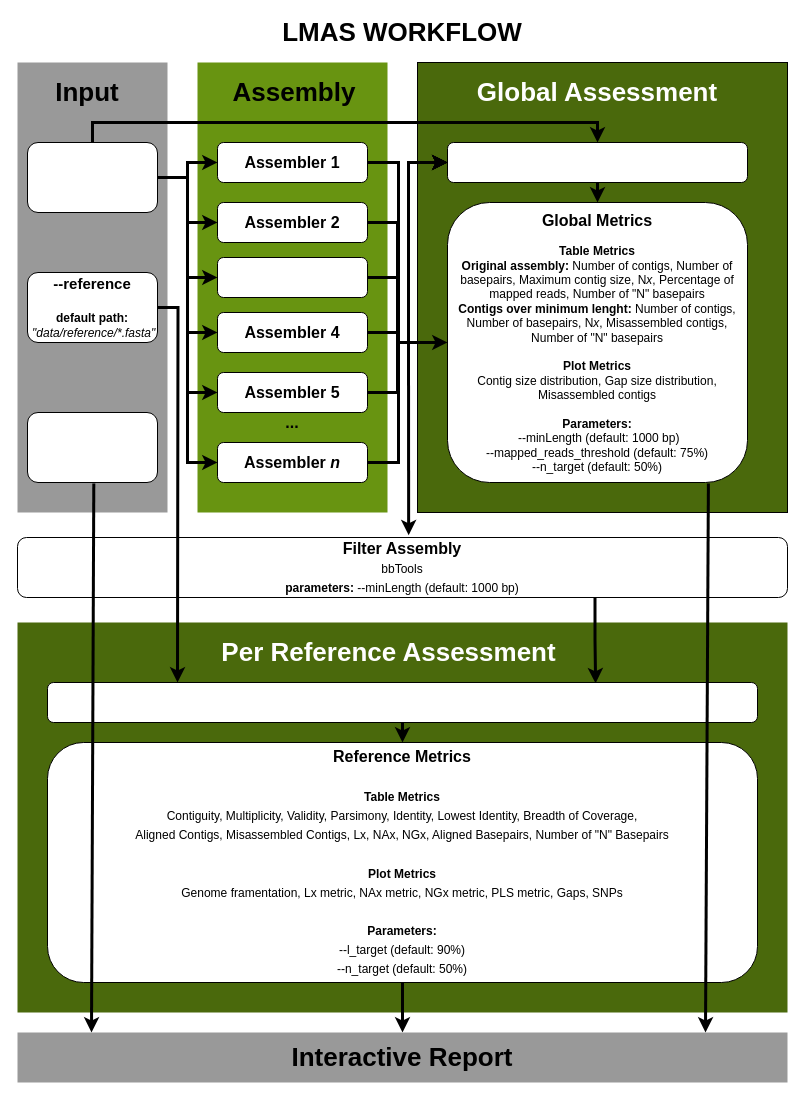
Some shapes in this 805 by 1100 pixel diagram are drawn without their labels. Here are the shapes that lost their labels. From the top down, the centre of each, then its label:
pixel 92 177: --fastq default path: "data/fastq/*_{1,2}*"
pixel 597 162: Read Mapping minimap2
pixel 292 277: Assembler 3
pixel 92 447: --md default path: "data/*.md" Optional
pixel 402 702: Assembly Mapping minimap2
